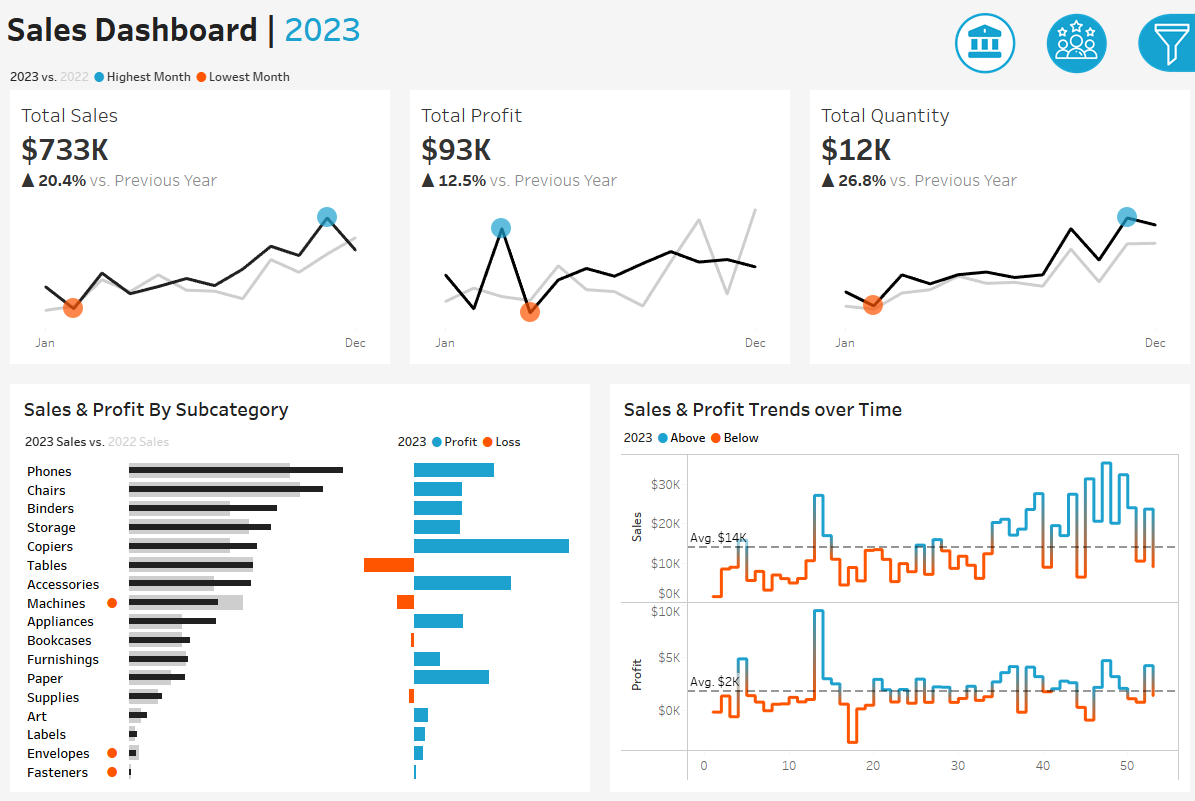

What the dashboard file says about the page in this screenshot:
{"tool":"tableau","page":{"name":"Sales Dashboard","canvas":[1200,800],"ordinal":0},"visuals":[{"type":"text","box":[0,0,1200,53]},{"type":"dashboard-object","box":[940,6,91,70]},{"type":"dashboard-object","box":[1031,6,91,70]},{"type":"blank","box":[952,10,237,86]},{"type":"worksheet","title":"Legend KPI","mark":"Automatic","box":[0,59,1200,29]},{"type":"worksheet","title":"KPI Sales","mark":"Automatic","rows":["Calculation_721701895347843083"],"cols":["Order Date"],"box":[0,88,400,284]},{"type":"worksheet","title":"KPI Profit","mark":"Automatic","rows":["Min/Max Sales (copy)_237846410425847814"],"cols":["Order Date"],"box":[400,88,400,284]},{"type":"worksheet","title":"KPI Quantity","mark":"Automatic","rows":["Min/Max Sales (copy) (copy)_237846410425856007"],"cols":["Order Date"],"box":[800,88,400,284]},{"type":"text","box":[952,96,237,34]},{"type":"parameter","param":"[Parameters].[Parameter 1]","box":[952,130,237,52]},{"type":"text","box":[952,182,237,29]},{"type":"filter","title":"KPI Sales","param":"[federated.1kpxa041aiai2y1cl4pui1t4eju9].[none:Category:nk]","box":[952,211,237,52]},{"type":"filter","title":"KPI Sales","param":"[federated.1kpxa041aiai2y1cl4pui1t4eju9].[none:Sub-Category:nk]","box":[952,263,237,52]},{"type":"blank","box":[952,315,237,60]},{"type":"text","box":[952,375,237,29]},{"type":"text","box":[17,389,566,34]},{"type":"text","box":[617,389,566,34]},{"type":"filter","title":"KPI Sales","param":"[federated.1kpxa041aiai2y1cl4pui1t4eju9].[none:Region:nk]","box":[952,404,237,52]},{"type":"worksheet","title":"Legend Subcategory","mark":"Automatic","box":[17,423,374,32]},{"type":"text","box":[391,423,192,32]},{"type":"text","box":[617,423,566,25]},{"type":"worksheet","title":"Weekly Trends","mark":"Automatic","rows":["Calculation_721701895334993921","CY Sales (copy)_237846410424180736"],"cols":["Order Date"],"box":[617,448,566,335]},{"type":"worksheet","title":"Subcategory Comparison","mark":"Bar","rows":["Sub-Category","Calculation_2435040078806671369"],"cols":["CY Sales (copy)_721701895335804930","Calculation_721701895334993921","CY Sales (copy)_237846410424180736"],"box":[17,455,566,327.9]},{"type":"filter","title":"KPI Sales","param":"[federated.1kpxa041aiai2y1cl4pui1t4eju9].[none:State:nk]","box":[952,456,237,52]},{"type":"filter","title":"KPI Sales","param":"[federated.1kpxa041aiai2y1cl4pui1t4eju9].[none:City:nk]","box":[952,508,237,52]}]}

Visuals, with their boxes in screenshot pixels (x1, y1, x2, y2), scaled from the page's 1200x800 canvas onto the 1195x801 screenshot:
text: rect(0, 0, 1194, 53)
dashboard-object: rect(936, 6, 1027, 76)
dashboard-object: rect(1027, 6, 1117, 76)
blank: rect(948, 10, 1184, 96)
"Legend KPI" worksheet: rect(0, 59, 1194, 88)
"KPI Sales" worksheet: rect(0, 88, 398, 372)
"KPI Profit" worksheet: rect(398, 88, 797, 372)
"KPI Quantity" worksheet: rect(797, 88, 1194, 372)
text: rect(948, 96, 1184, 130)
parameter: rect(948, 130, 1184, 182)
text: rect(948, 182, 1184, 211)
"KPI Sales" filter: rect(948, 211, 1184, 263)
"KPI Sales" filter: rect(948, 263, 1184, 315)
blank: rect(948, 315, 1184, 375)
text: rect(948, 375, 1184, 405)
text: rect(17, 389, 581, 424)
text: rect(614, 389, 1178, 424)
"KPI Sales" filter: rect(948, 405, 1184, 457)
"Legend Subcategory" worksheet: rect(17, 424, 389, 456)
text: rect(389, 424, 581, 456)
text: rect(614, 424, 1178, 449)
"Weekly Trends" worksheet: rect(614, 449, 1178, 784)
"Subcategory Comparison" worksheet (Bar marks): rect(17, 456, 581, 784)
"KPI Sales" filter: rect(948, 457, 1184, 509)
"KPI Sales" filter: rect(948, 509, 1184, 561)
